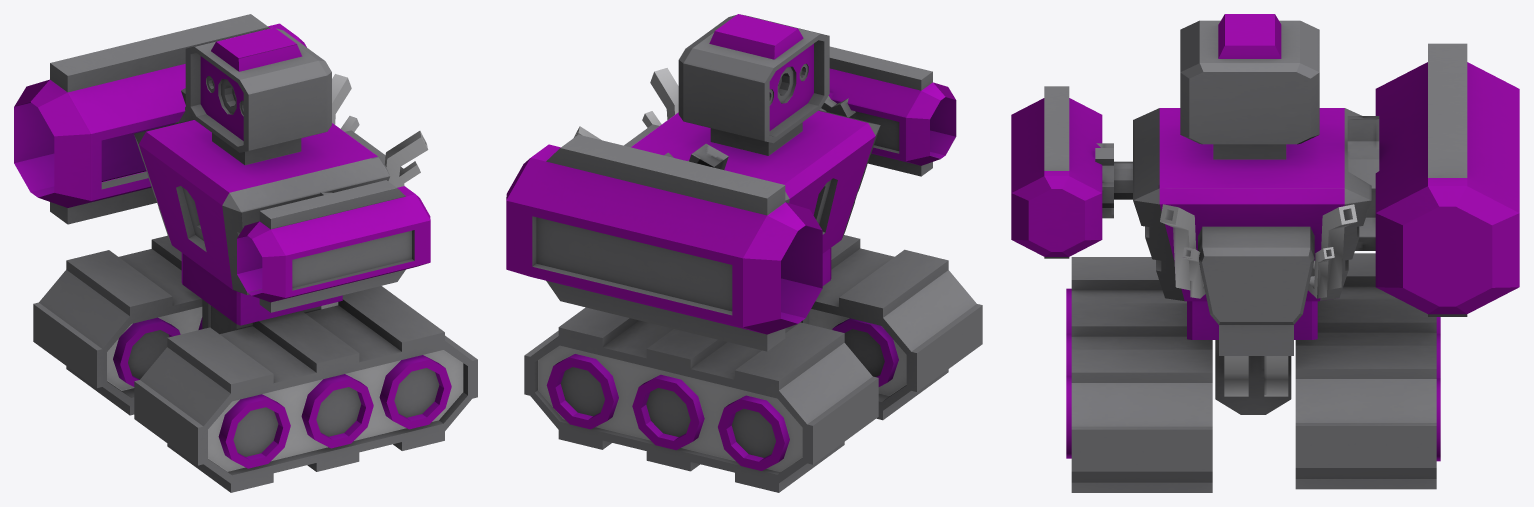
File: Enemy2_Attack1.obj
3 renders of one model, left to right at view 1: azimuth 30°, elevation 25°; view 2: azimuth 150°, elevation 25°; view 3: azimuth 270°, elevation 25°, orthographic. The views are drawn at different scales.
Parts seen in each view (by area): view 1: Object006, Object007, Object011, Object010; view 2: Object006, Object011, Object007, Object010, Object009; view 3: Object006, Object007, Object011, Object010, Object009, Object008.
Boxes of the visible parts, x1,y1,x2,y2 form: Object006: (33, 180, 477, 492); Object007: (134, 27, 390, 334); Object011: (14, 14, 306, 224); Object010: (321, 74, 428, 309); Object006: (524, 46, 982, 492); Object011: (506, 134, 822, 351); Object007: (631, 14, 880, 329); Object010: (574, 68, 678, 147); Object009: (664, 143, 728, 169); Object006: (1011, 86, 1440, 492); Object007: (1133, 14, 1371, 414); Object011: (1375, 43, 1519, 316); Object010: (1160, 204, 1357, 396); Object009: (1347, 116, 1379, 250); Object008: (1095, 143, 1132, 218).
Size of the model in its own units: 87.04 by 109 by 123.
